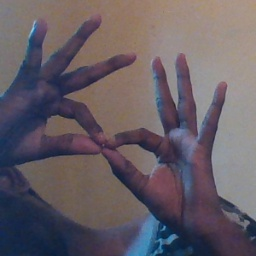B: (30, 64, 174, 207)
